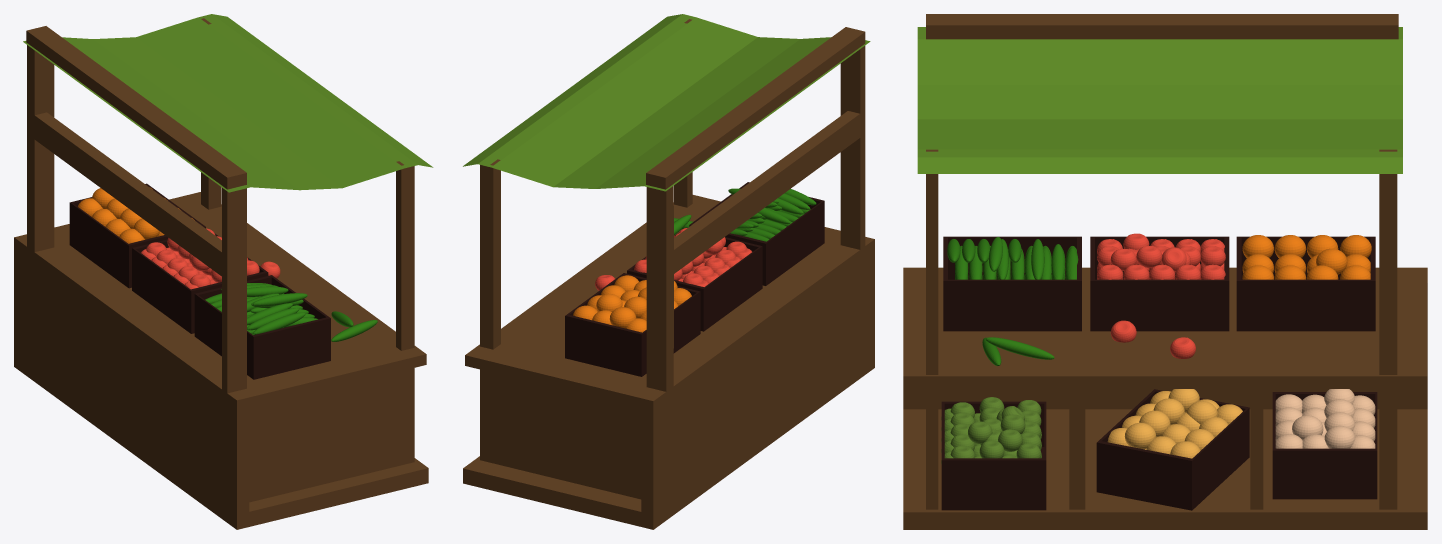
File: Street_stall.fbx
3 renders of one model, left to right at view 1: azimuth 30°, elevation 25°; view 2: azimuth 150°, elevation 25°; view 3: azimuth 270°, elevation 25°, orthographic. The views are drawn at different scales.
Visible parts, largest first — view 1: Cube, Plane, Basket.006, Sphere.016, Basket.005, Basket.004, Apple, Orange; view 2: Cube, Plane, Basket.004, Basket.005, Basket.006, Orange, Sphere.016, Apple; view 3: Cube, Plane, Basket.006, Basket.002, Basket.004, Basket.005, Basket.003, Basket.001, Potato, Sphere.016, Lemon, Apple.001 (+3 smaller).
Part boxes in pixels (x1,y1,x2,y2): Cube: (14,18,428,529); Plane: (23,14,433,192); Basket.006: (194,275,330,379); Sphere.016: (205,283,377,341); Basket.005: (132,233,268,333); Basket.004: (69,183,205,288); Apple: (141,228,259,289); Orange: (78,187,194,243); Cube: (463,19,874,529); Plane: (463,14,870,191); Basket.004: (565,273,700,376); Basket.005: (627,227,762,331); Basket.006: (689,182,824,285); Orange: (573,275,691,332); Sphere.016: (674,188,816,241); Apple: (634,228,751,286); Cube: (903,14,1427,529); Plane: (917,27,1402,173); Basket.006: (943,236,1081,331); Basket.002: (1096,389,1249,510); Basket.004: (1236,236,1375,331); Basket.005: (1090,236,1229,331); Basket.003: (941,401,1046,510); Basket.001: (1272,392,1377,499); Potato: (1107,389,1242,458); Sphere.016: (947,237,1078,365); Lemon: (1275,389,1375,448); Apple.001: (941,397,1041,463).
Bounding box in the file's own units: 400 × 645 × 754.
